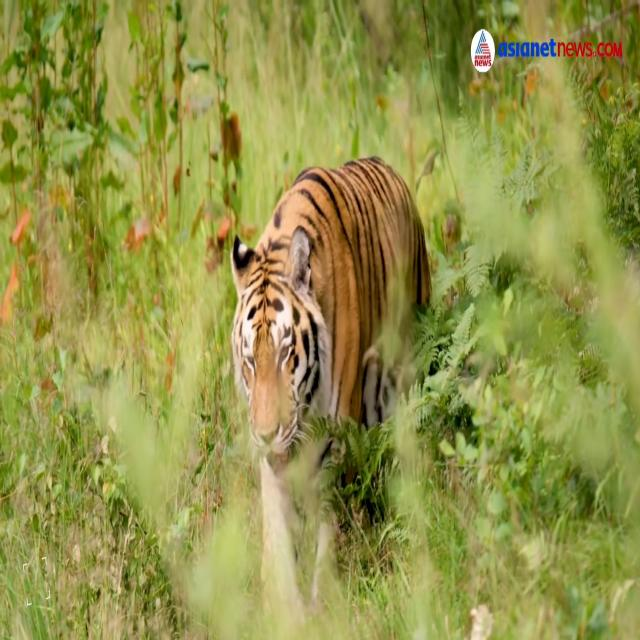TIGER: (214, 144, 432, 608)
